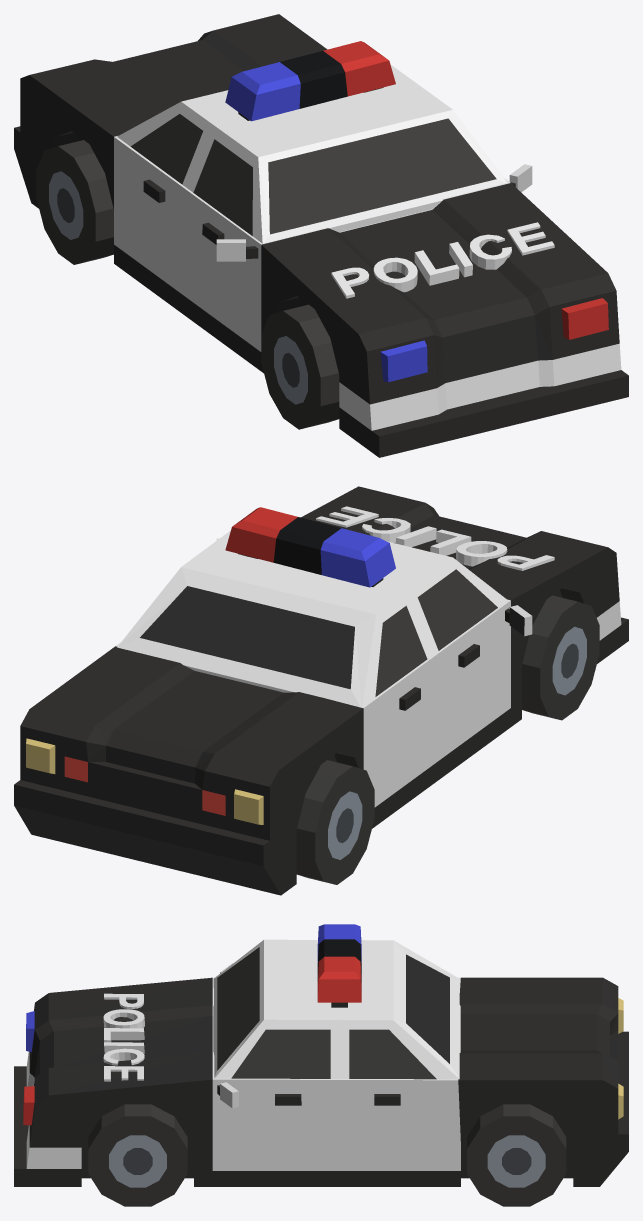
Rendered from jingche.FBX.
The picture shows the model from 3 angles, top to bottom: view 1: azimuth 30°, elevation 25°; view 2: azimuth 150°, elevation 25°; view 3: azimuth 270°, elevation 25°; orthographic projection. The views are drawn at different scales.
Visible parts, largest first — view 1: jingche, FR, BR; view 2: jingche, BR, FR; view 3: jingche, BL, FL.
Boxes of the visible parts, box(x1,y1,x2,y2) form: jingche: box(14, 14, 628, 457); FR: box(261, 304, 339, 429); BR: box(36, 140, 113, 264); jingche: box(14, 486, 628, 895); BR: box(296, 760, 374, 884); FR: box(522, 595, 599, 720); jingche: box(14, 924, 628, 1186); BL: box(467, 1104, 566, 1206); FL: box(88, 1104, 187, 1206).
Size of the model in its own units: 236 by 171 by 472.
Materials: 1 (1 with a texture image).
